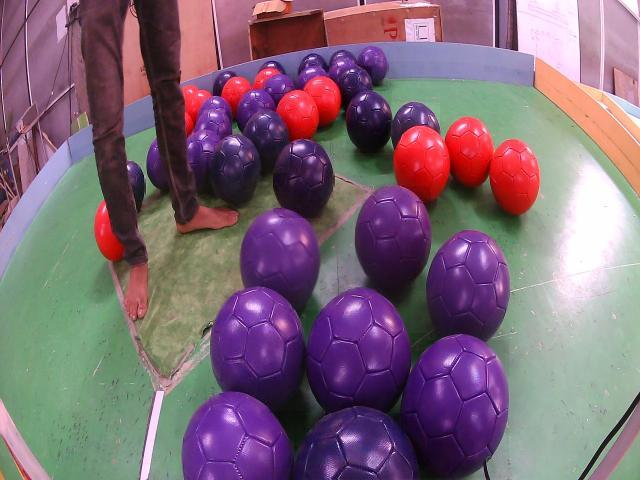jambhalya: (401, 334, 509, 478), (306, 289, 411, 413), (210, 286, 305, 411), (183, 394, 294, 480), (426, 230, 510, 340), (240, 208, 320, 310), (355, 186, 431, 291), (187, 130, 219, 191), (237, 90, 275, 131), (146, 138, 169, 190), (194, 110, 232, 140), (358, 46, 388, 84), (263, 73, 295, 107), (198, 96, 232, 121), (297, 65, 327, 90), (329, 57, 356, 83)
kaalyya: (294, 406, 418, 479), (274, 139, 334, 218), (210, 135, 261, 205), (243, 110, 290, 173), (347, 90, 392, 153), (391, 102, 440, 148), (338, 67, 372, 109), (127, 161, 145, 210), (213, 71, 236, 96), (300, 54, 328, 72), (330, 50, 358, 64), (260, 60, 285, 75)
